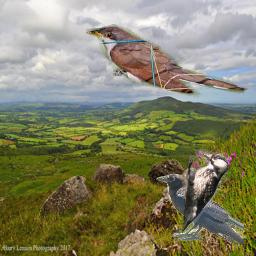Crow: (156, 174, 244, 244)
Cuckoo: (85, 22, 250, 102)
Woodpecker: (182, 149, 229, 237)
